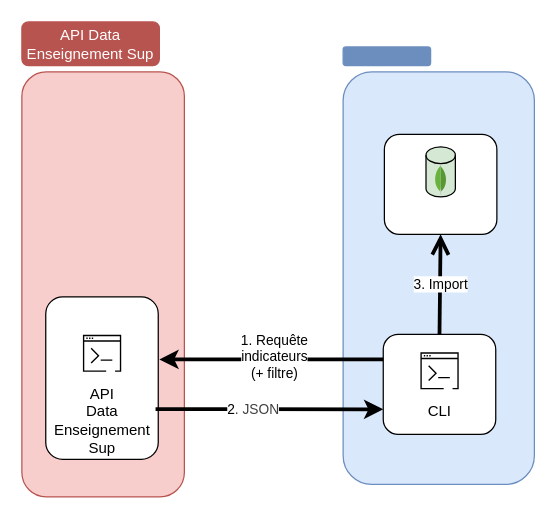
Some shapes in this 556 by 519 pixel diagram are drawn without their labels. Here are the shapes that lost their labels. From the top down, the centre of each, then its label:
At pixel 386 56: "Exposition".
At pixel 440 171: "MongoDB".
